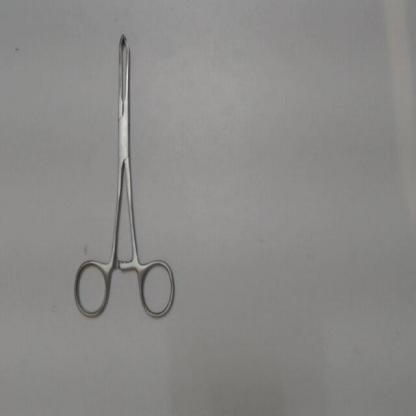Allis Tissue Forceps: (66, 16, 185, 327)
